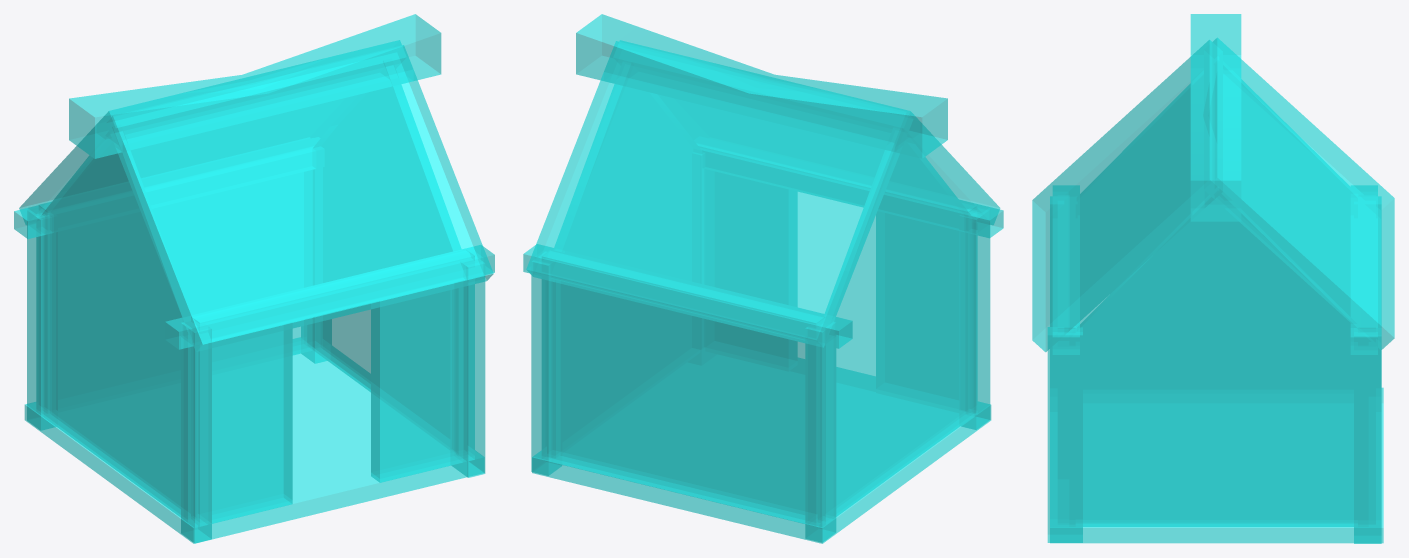
File: SM_Bld_Shack_07_Collision.fbx
The picture shows the model from 3 angles, left to right: view 1: azimuth 30°, elevation 25°; view 2: azimuth 150°, elevation 25°; view 3: azimuth 270°, elevation 25°; orthographic projection.
Visible parts, largest first — view 1: SM_Bld_Shack_07_Collision; view 2: SM_Bld_Shack_07_Collision; view 3: SM_Bld_Shack_07_Collision.
Boxes of the visible parts, box(x1,y1,x2,y2) form: SM_Bld_Shack_07_Collision: box(14, 14, 494, 543); SM_Bld_Shack_07_Collision: box(523, 14, 1003, 543); SM_Bld_Shack_07_Collision: box(1032, 14, 1394, 543).
Size of the model in its own units: 396 by 416 by 364.
